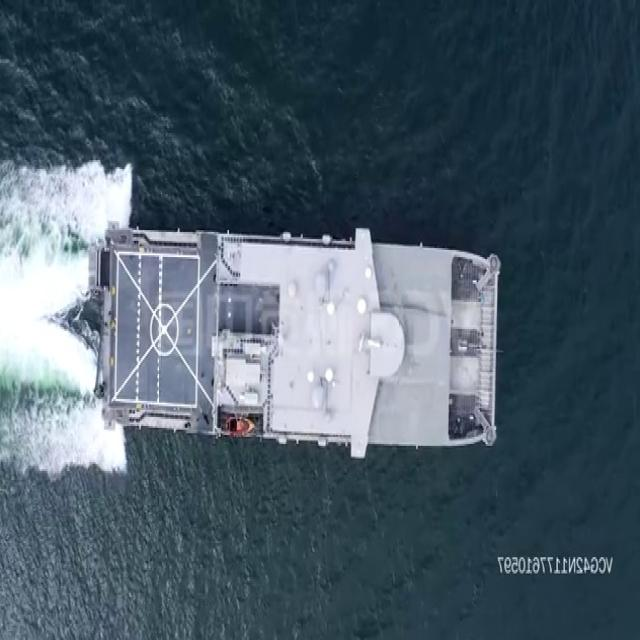navalvessels: (79, 215, 502, 452)
